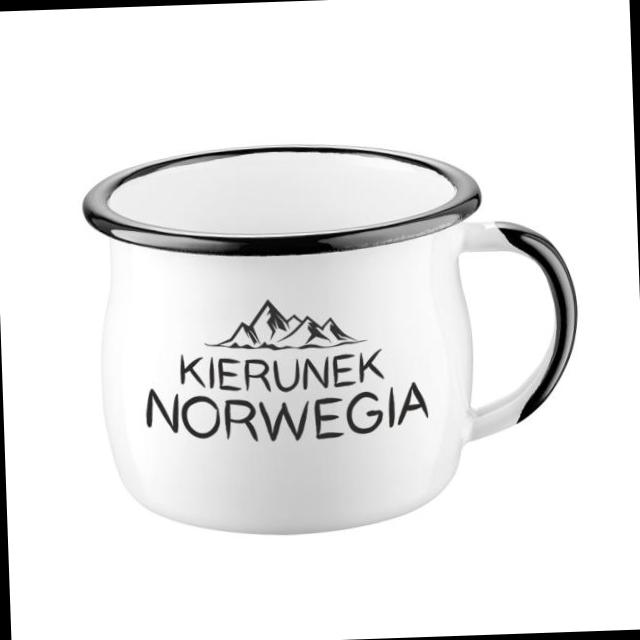Coffee Mug: (79, 136, 586, 540)
